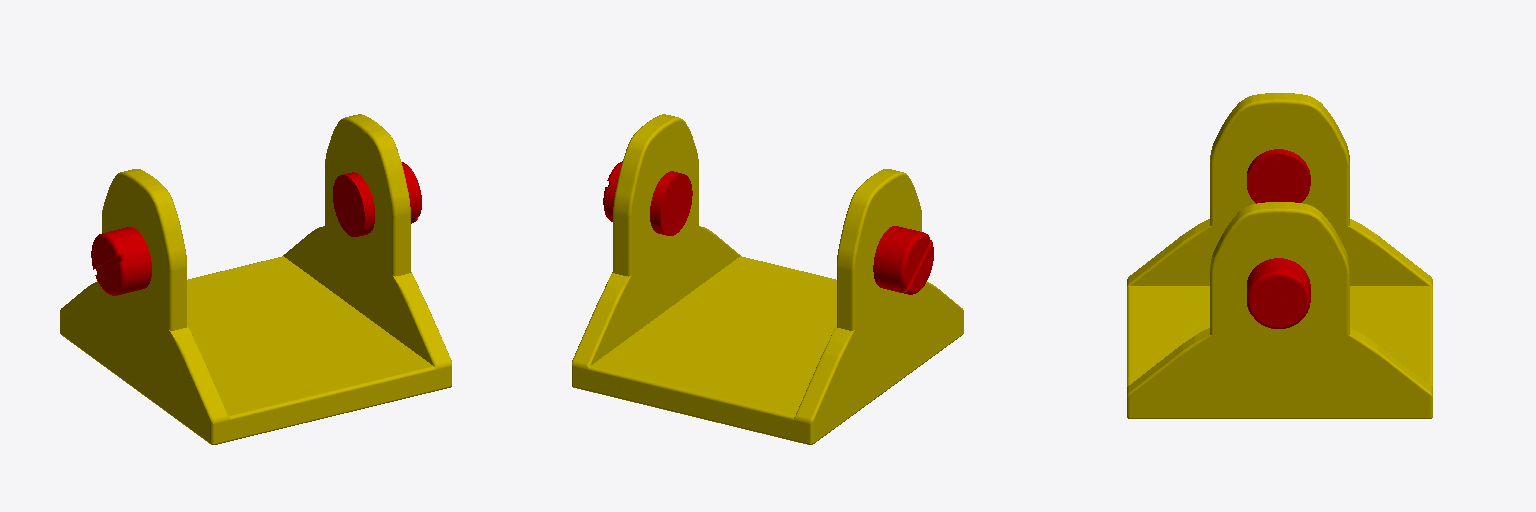
File: CannonFoundations.obj
The picture shows the model from 3 angles: view 1: azimuth 30°, elevation 25°; view 2: azimuth 150°, elevation 25°; view 3: azimuth 270°, elevation 25°; orthographic projection.
Visible parts, largest first — view 1: 立方体, 円柱.001, 円柱; view 2: 立方体, 円柱.001, 円柱; view 3: 立方体, 円柱, 円柱.001.
Boxes of the visible parts, x1,y1,x2,y2 form: 立方体: [60, 114, 451, 444]; 円柱.001: [91, 227, 151, 295]; 円柱: [333, 162, 421, 236]; 立方体: [572, 114, 963, 444]; 円柱.001: [873, 226, 933, 294]; 円柱: [603, 161, 692, 235]; 立方体: [1127, 93, 1432, 418]; 円柱: [1247, 258, 1310, 328]; 円柱.001: [1247, 149, 1310, 203].
Bounding box in the file's own units: 11.75 × 7.84 × 10.34.